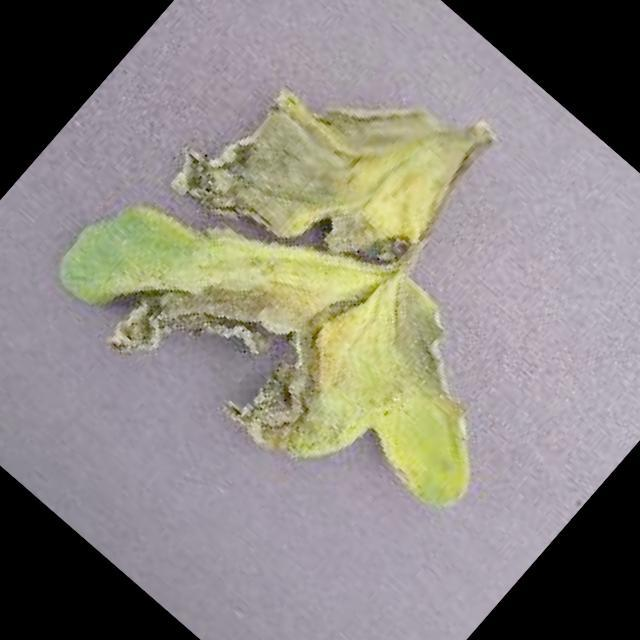Tomato late blight leaf: (28, 0, 640, 591)
